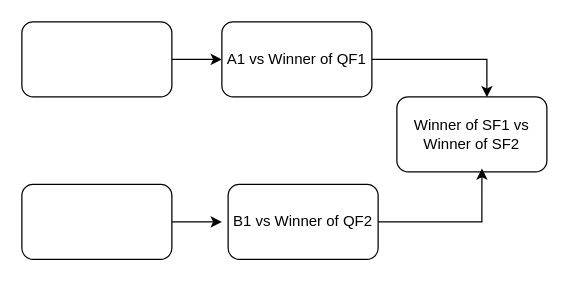
Some shapes in this 569 by 281 pixel diagram are drawn without their labels. Here are the shapes that lost their labels. From the top down, the centre of each, then its label:
At point 96,59: "A2 vs B3 QF1".
At point 96,221: "B2 vs A3 QF2".
